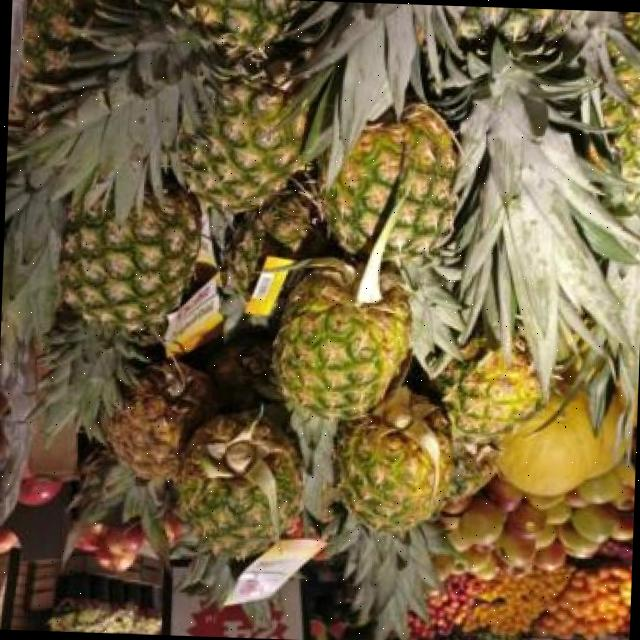pineapple: (19, 0, 299, 217), (36, 181, 199, 434), (323, 104, 462, 375), (271, 259, 409, 519), (327, 385, 448, 640), (273, 300, 407, 519), (76, 359, 214, 549), (174, 408, 300, 604), (433, 335, 540, 497), (177, 82, 305, 211), (218, 191, 312, 337), (433, 335, 539, 437)
